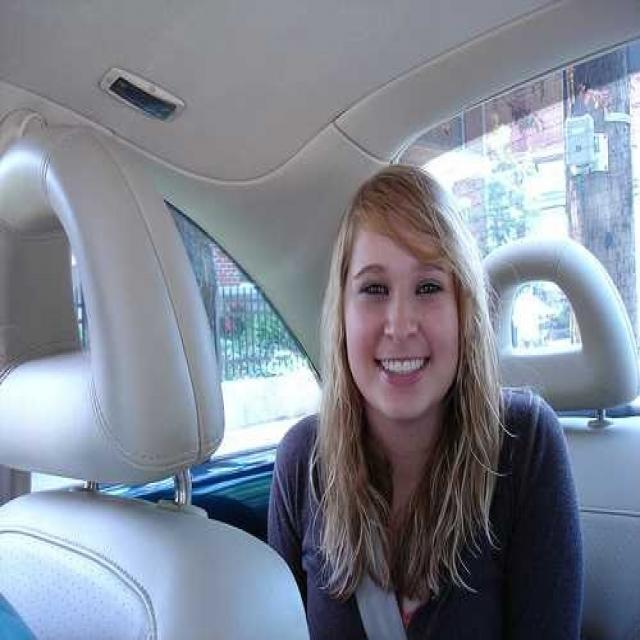seatbelt: (281, 394, 418, 626)
